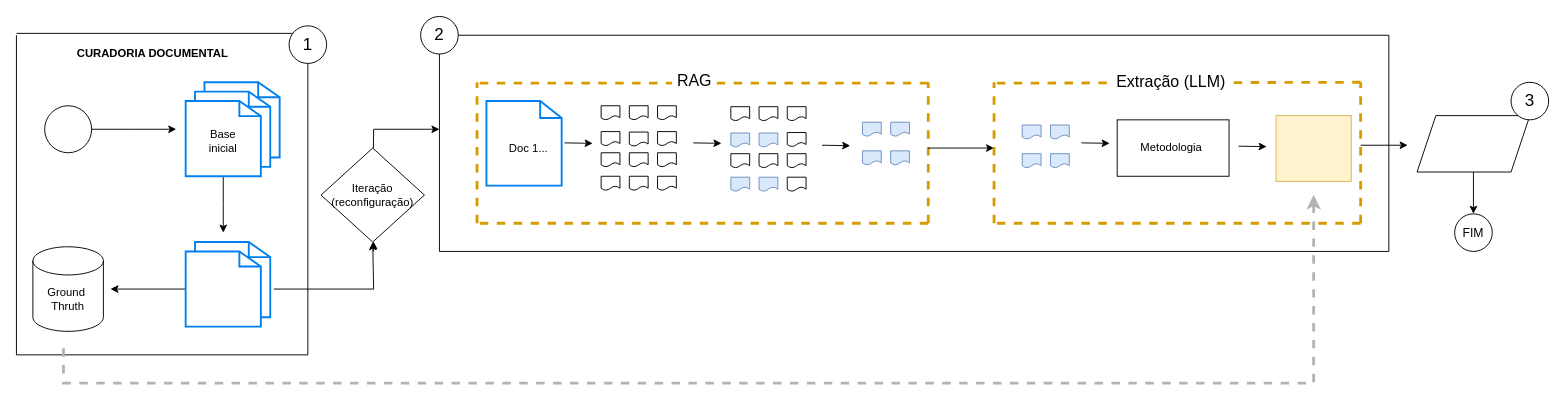
The diagram is 1565 pixels wide and 408 high, and some of its shapes have lost their labels. The shapes that lost their labels are listed below. From the top down, each one's centre as x and y in pixels, then its label:
pixel 68 129: INICIO
pixel 1313 148: Validação da extração
pixel 1473 143: Configuração / Resultado alcançado
pixel 222 288: Amostra selecionada
